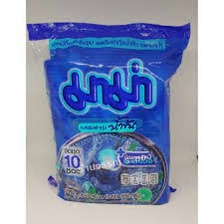snack: (25, 14, 197, 210)
